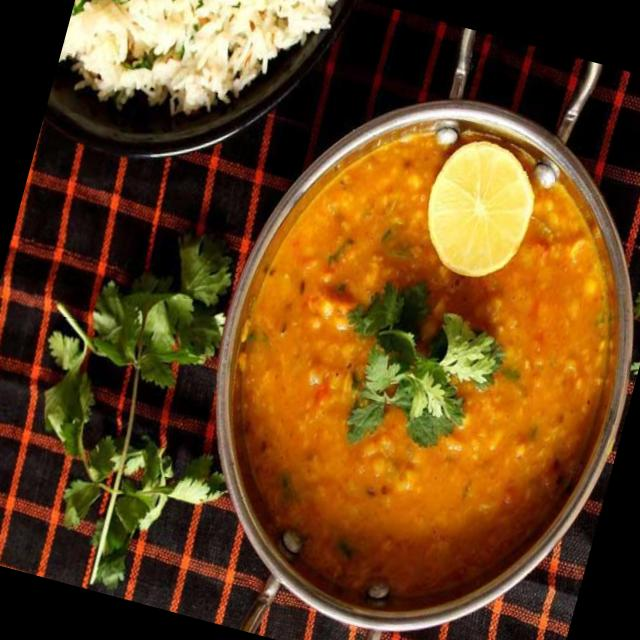dal: (189, 84, 640, 640)
rice: (52, 0, 343, 156)
